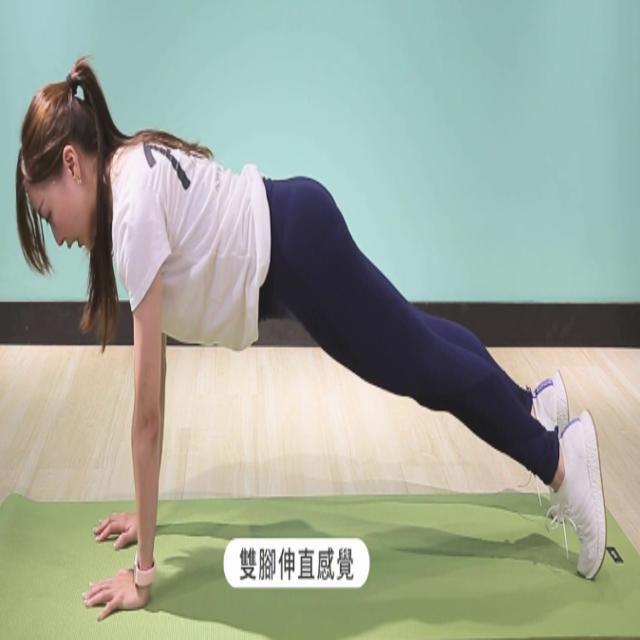Plank_Pose: (10, 83, 615, 621)
